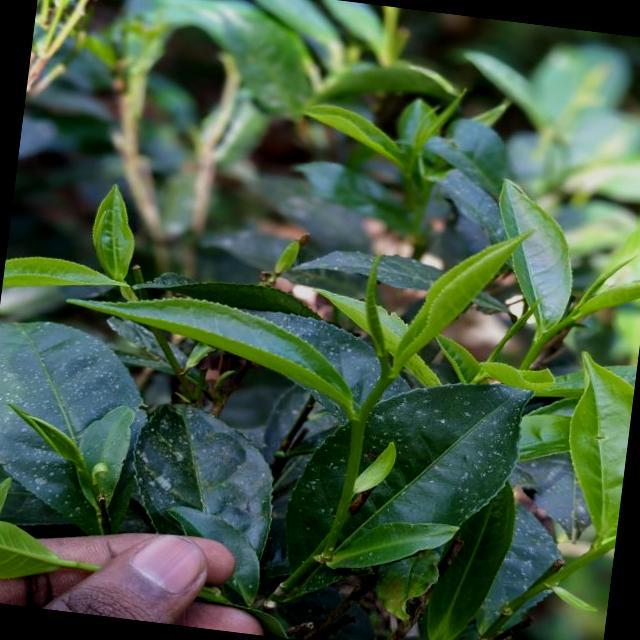Stem: (532, 332, 550, 348), (375, 376, 392, 391)
